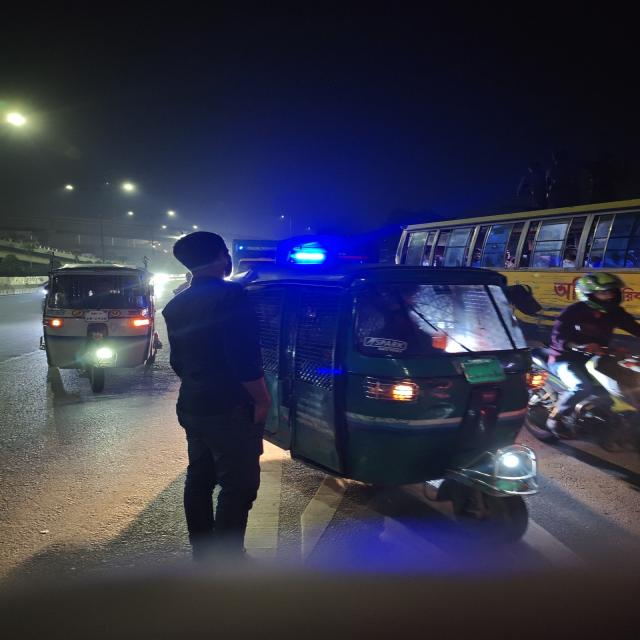cng: (291, 250, 553, 548), (32, 262, 163, 398)
motorcycle: (535, 272, 640, 466)
pedestrian: (166, 249, 270, 539)
